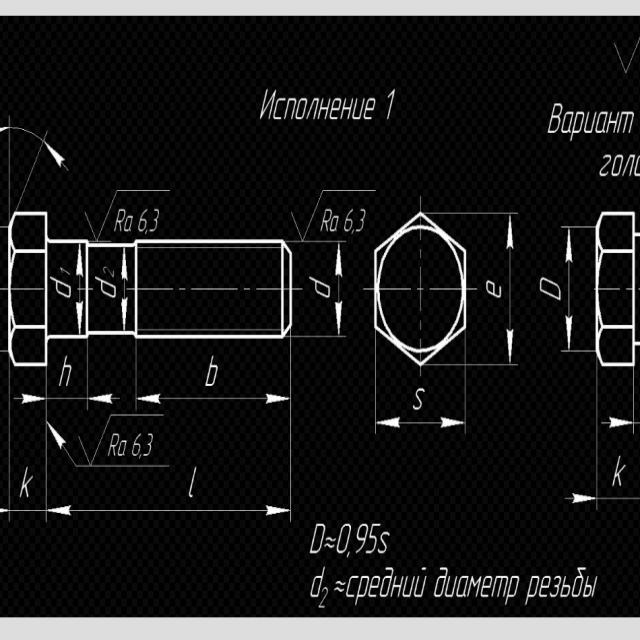marking_line: (45, 368, 294, 526), (133, 342, 296, 414), (563, 368, 640, 516), (467, 208, 520, 369), (47, 415, 174, 475), (372, 364, 468, 443), (0, 367, 48, 522), (0, 115, 70, 209), (293, 239, 347, 341), (560, 218, 593, 357), (13, 369, 120, 411), (601, 370, 640, 436), (73, 244, 84, 337), (118, 248, 130, 329)
numeric: (365, 522, 381, 553), (355, 521, 370, 554), (337, 523, 352, 555), (384, 88, 396, 120), (145, 207, 158, 236), (353, 206, 366, 233), (135, 209, 149, 233), (142, 429, 153, 459), (132, 431, 144, 458), (343, 205, 354, 234), (319, 585, 329, 610), (102, 268, 115, 279), (59, 266, 70, 277)
special_symbol: (82, 185, 171, 239), (78, 412, 166, 466), (288, 187, 375, 240), (334, 580, 346, 592), (325, 537, 336, 548)
